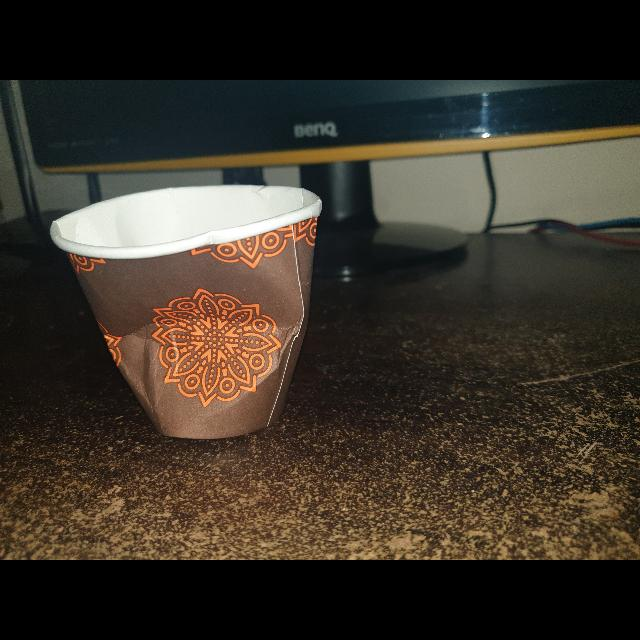trash: (48, 176, 328, 450)
